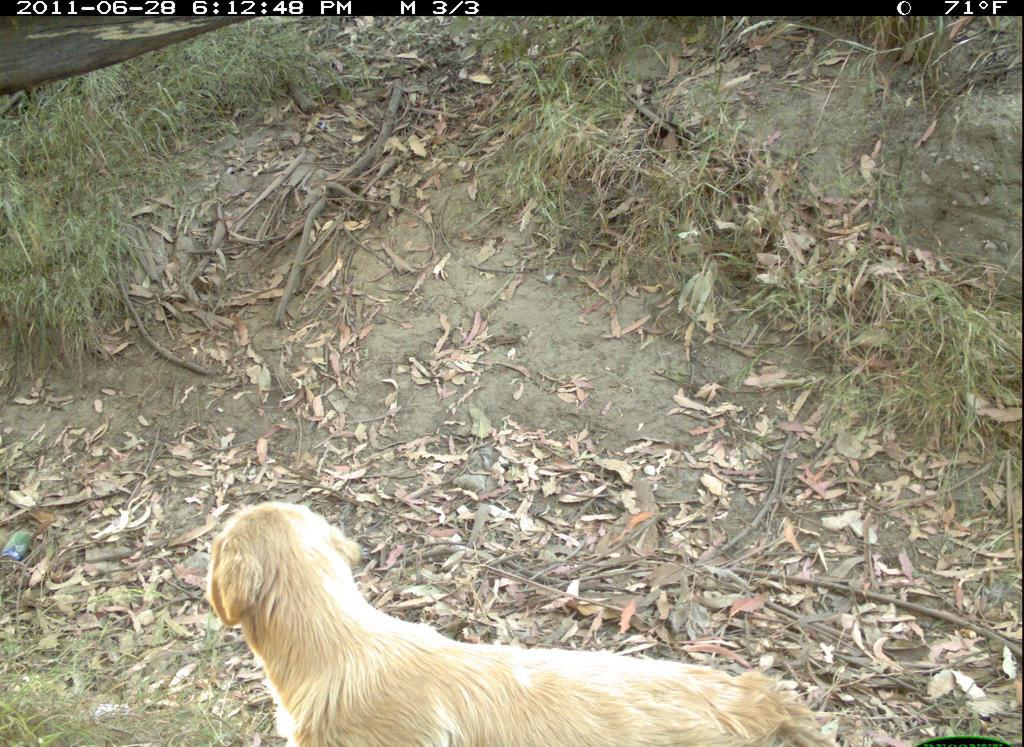dog: (196, 488, 867, 745)
